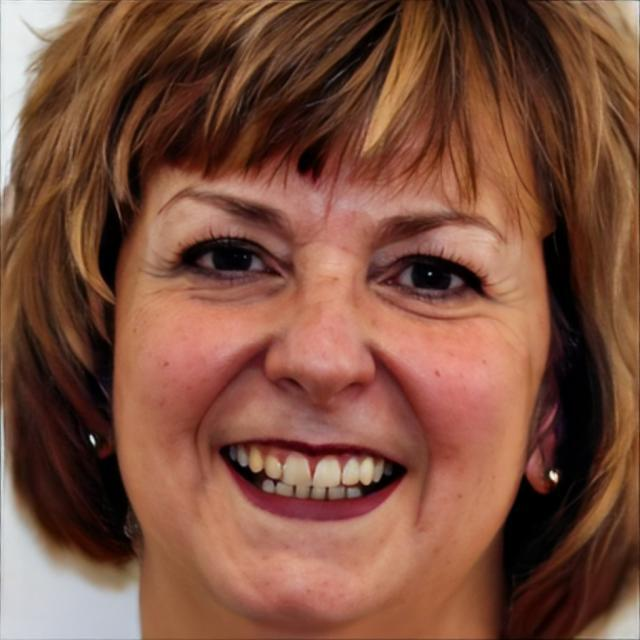happy: (102, 56, 542, 626)
